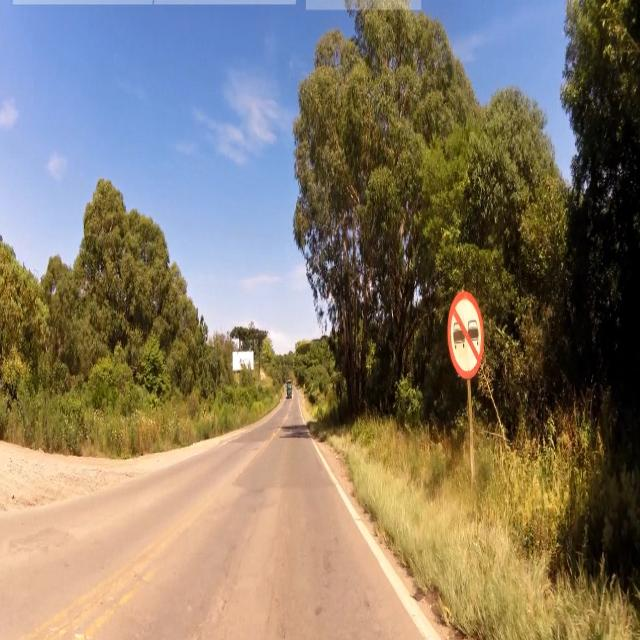R-7: (447, 288, 484, 381)
